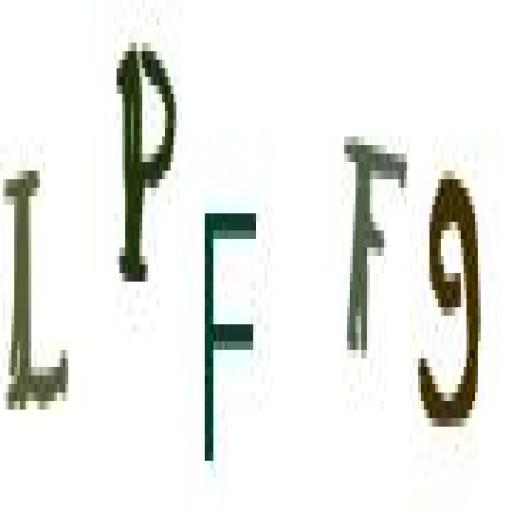9: (418, 144, 490, 457)
F: (202, 192, 263, 490), (342, 130, 410, 384)
L: (0, 142, 75, 427)
P: (113, 28, 177, 300)
